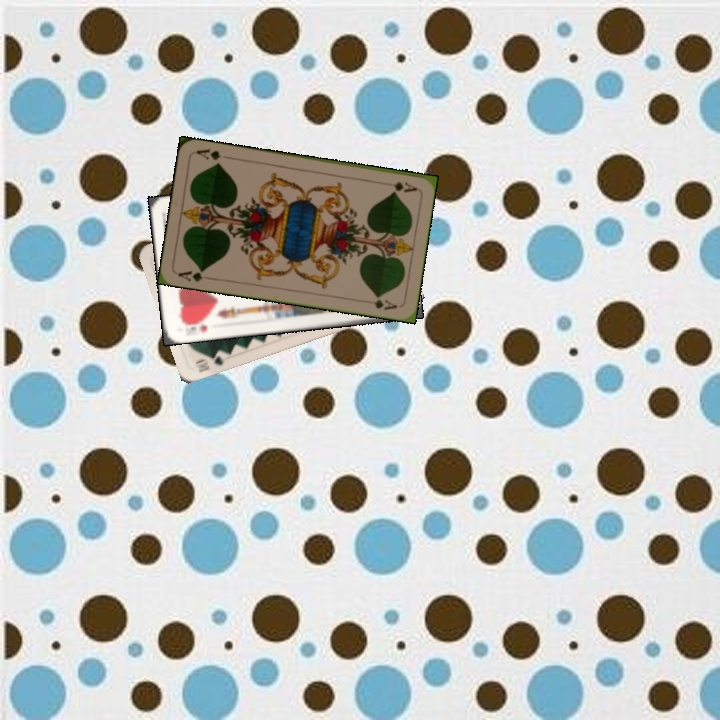G10: (190, 347, 229, 375)
GA: (174, 265, 215, 284), (379, 177, 419, 195)
HK: (178, 316, 210, 335)
